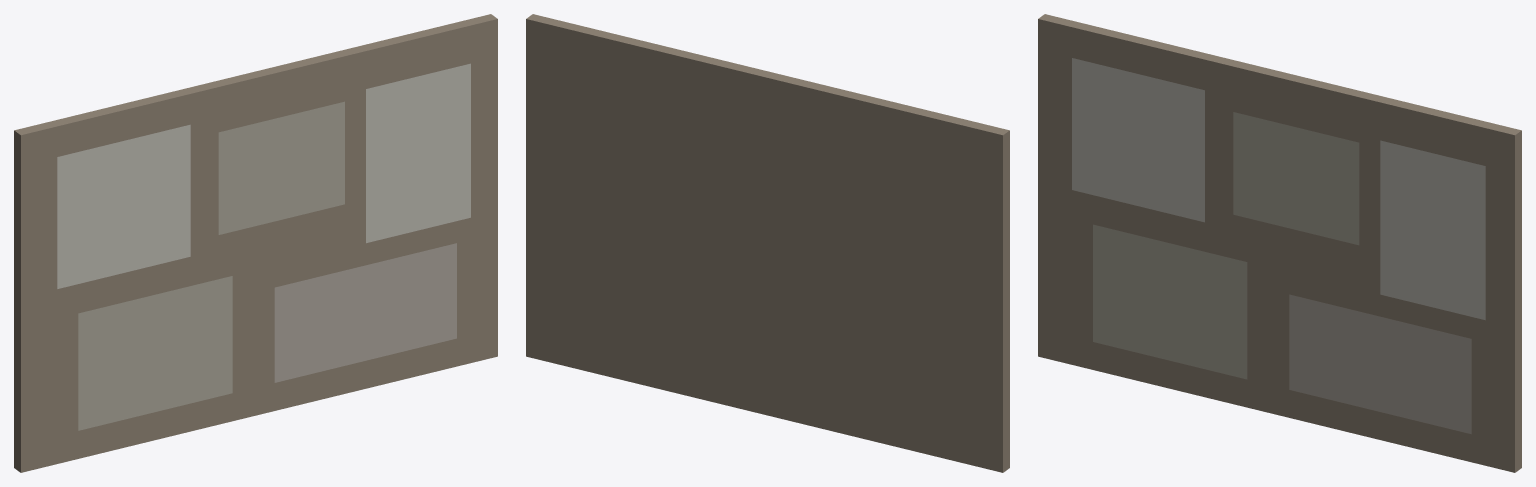
File: wall_notes.glb
3 renders of one model, left to right at view 1: azimuth 30°, elevation 25°; view 2: azimuth 150°, elevation 25°; view 3: azimuth 330°, elevation 25°, orthographic.
Visible parts, largest first — view 1: wall_notes; view 2: wall_notes; view 3: wall_notes.
Part boxes in pixels (x1,y1,x2,y2): wall_notes: (14, 14, 497, 472); wall_notes: (526, 14, 1009, 472); wall_notes: (1038, 14, 1521, 472).
Bounding box in the file's own units: 0.68 × 0.46 × 0.02.
